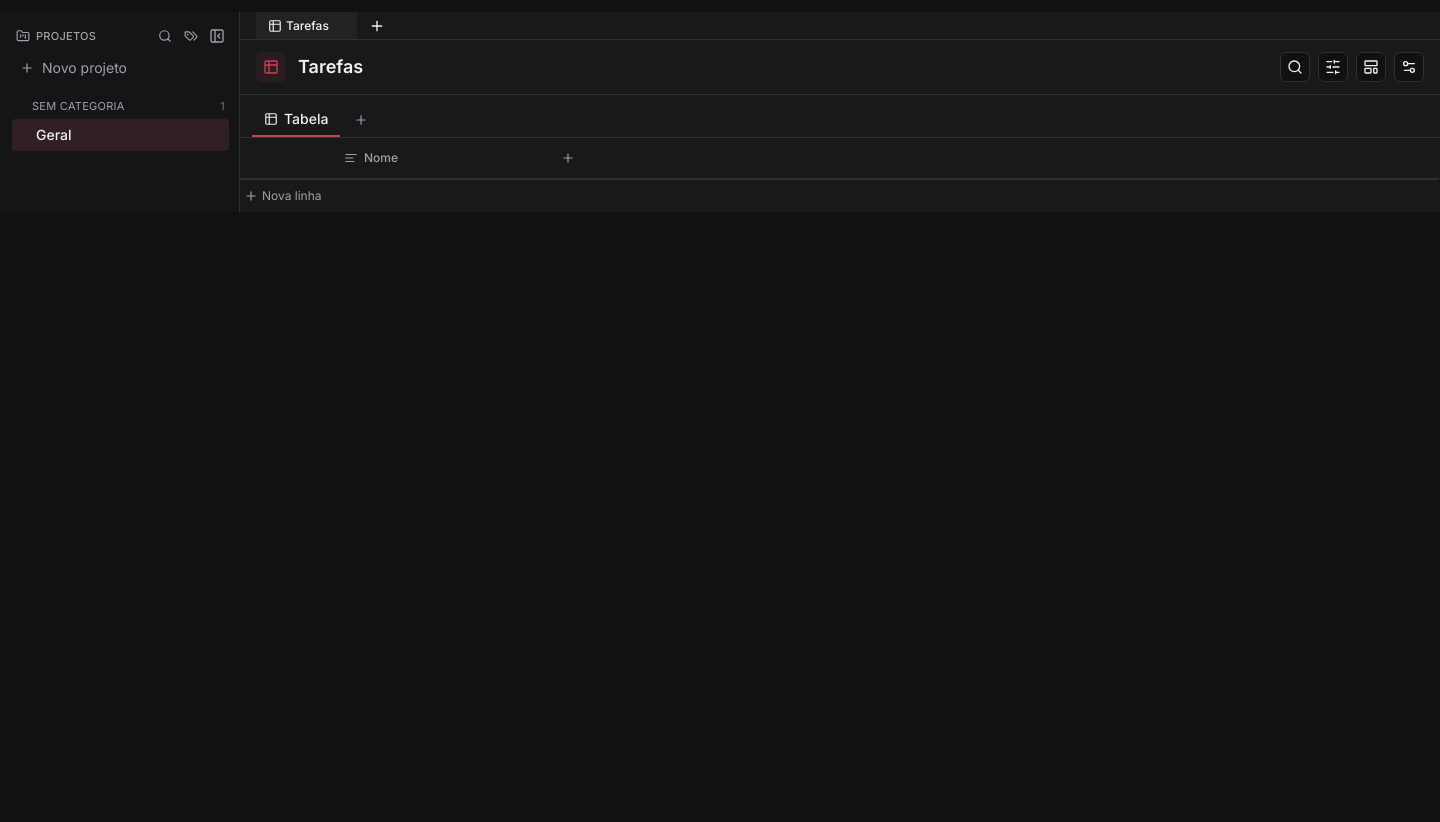
Test: DatabaseView — estado vazio › fecha o editor da propriedade ao escolher o tipo
Step 1. Click the button named "Nova propriedade" → [568, 158], box [556,146,580,170]
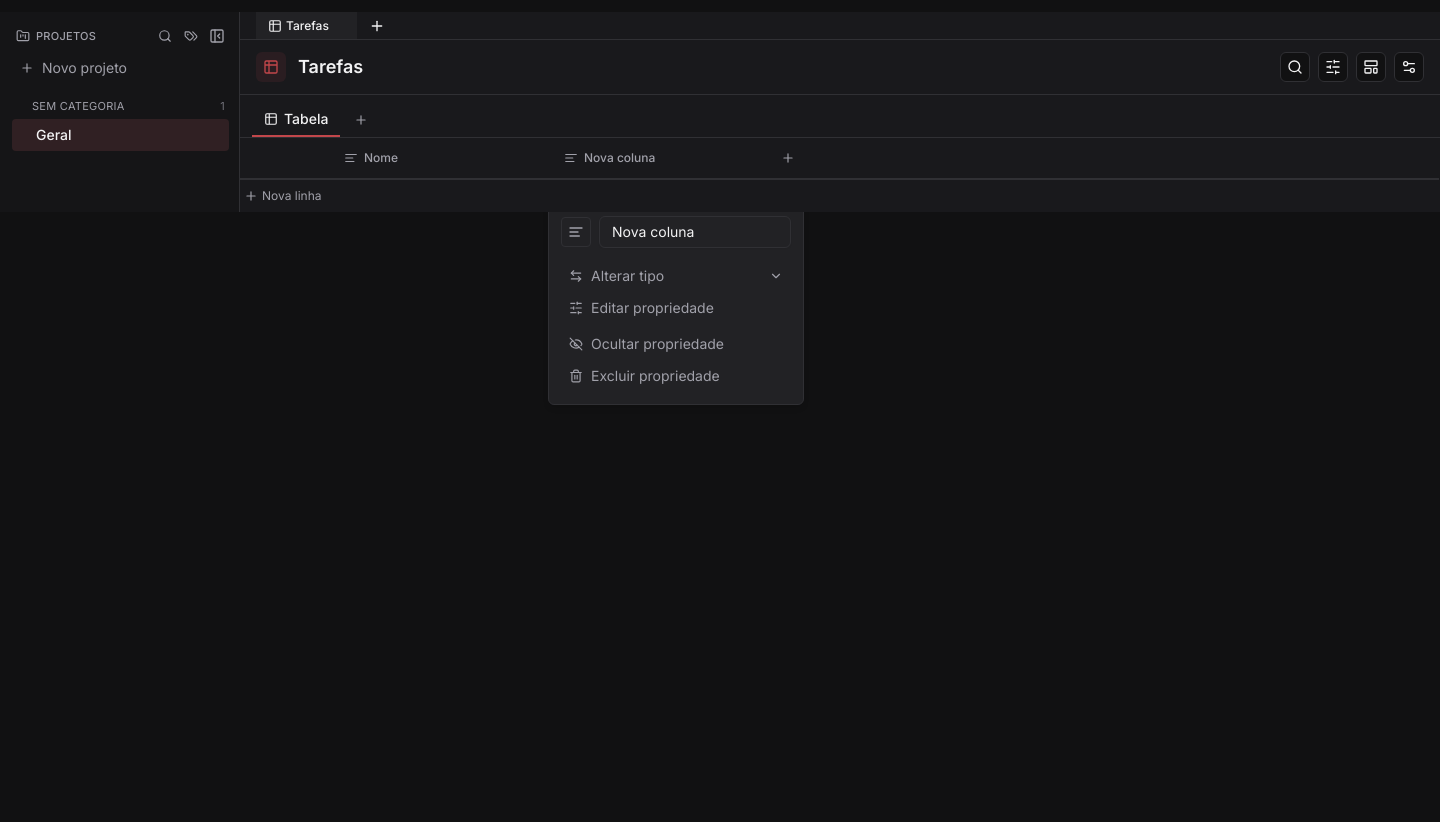
Result: the field named "Nome da propriedade" is shown at [599,216,791,248]
Step 2. Click the button "Alterar tipo" → [676, 276], box [561,260,791,292]
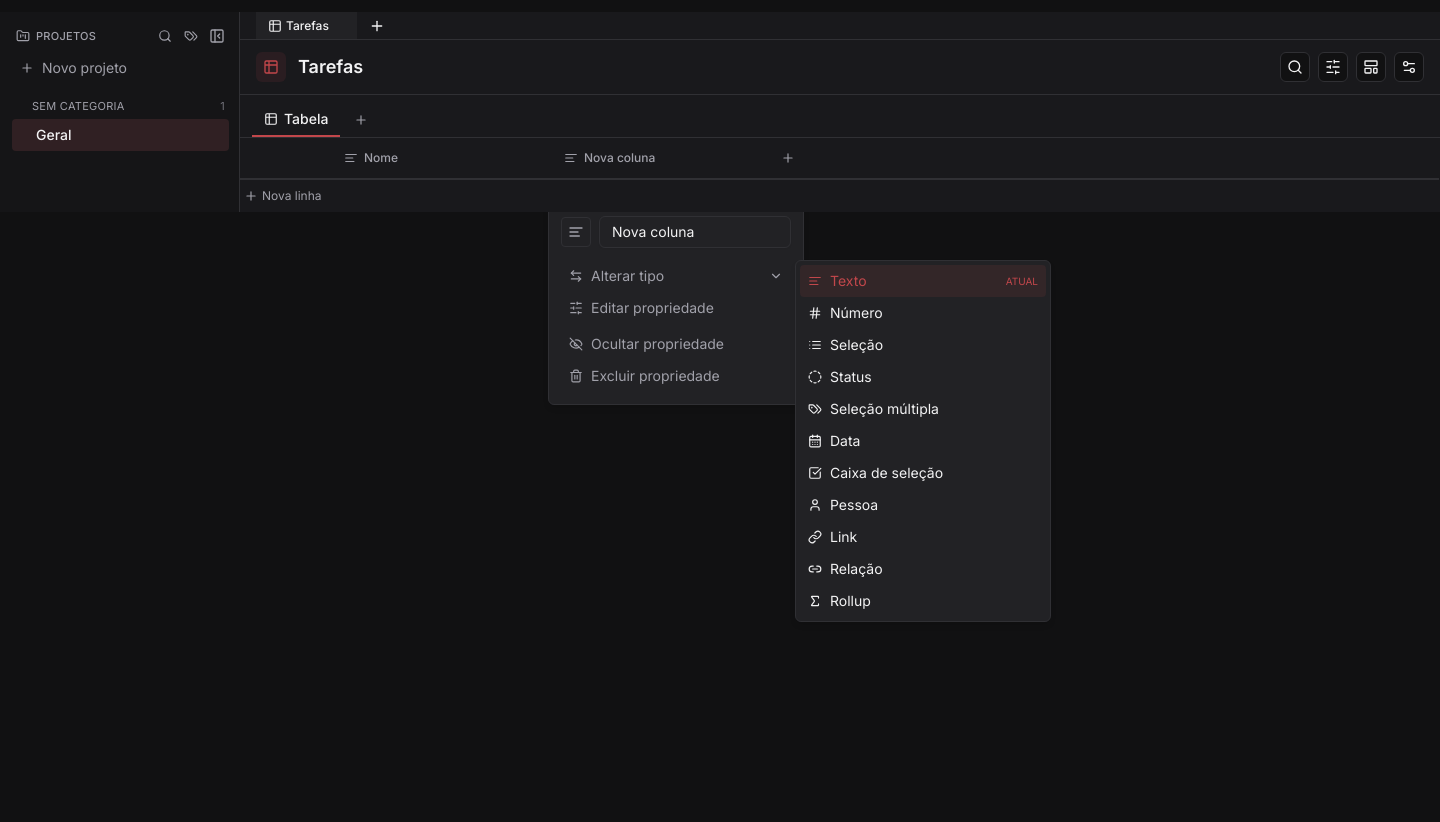
Step 3. Click the button "Seleção" → [923, 344], box [800,328,1046,360]
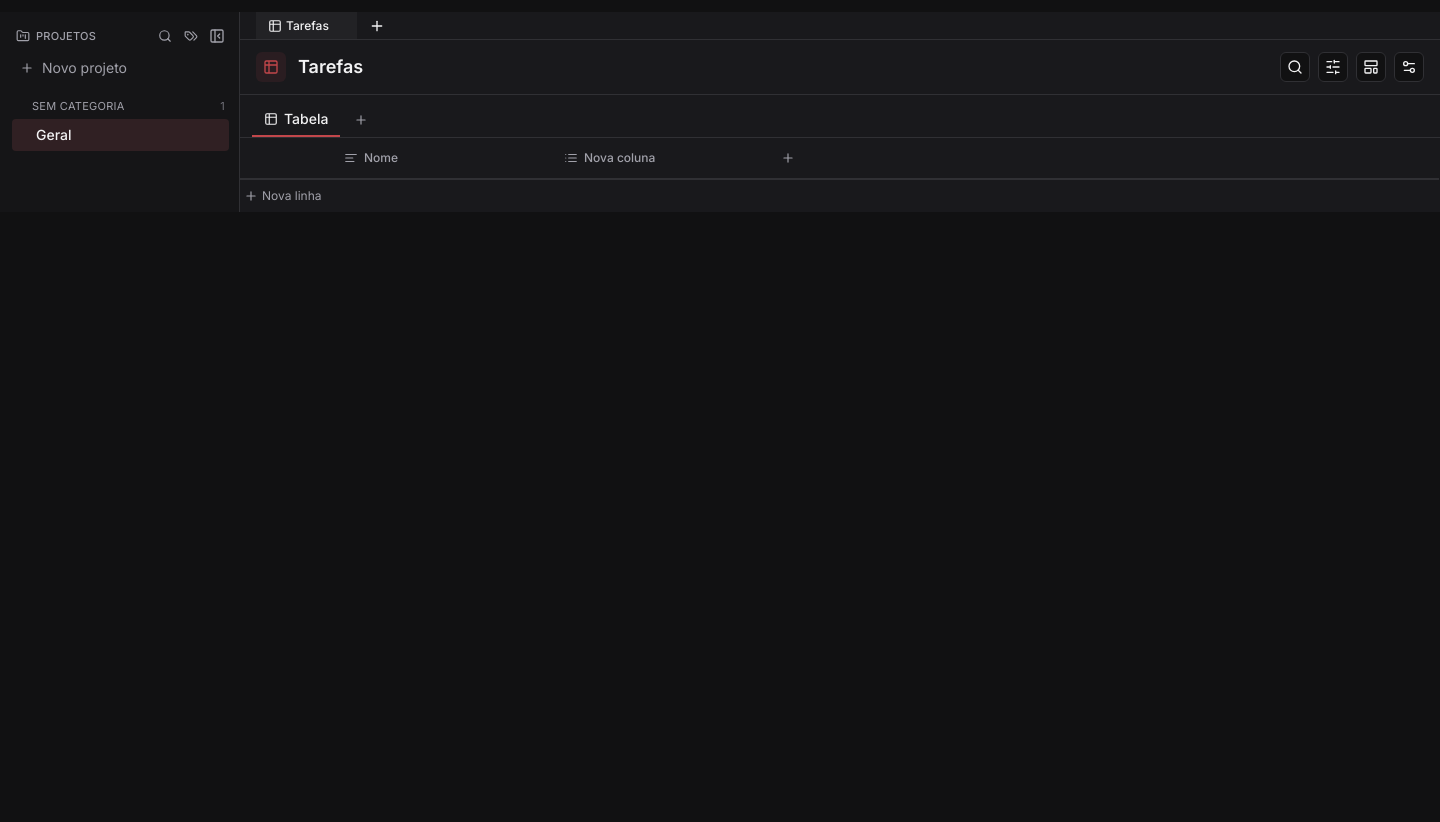
Result: the button "Seleção" is gone
